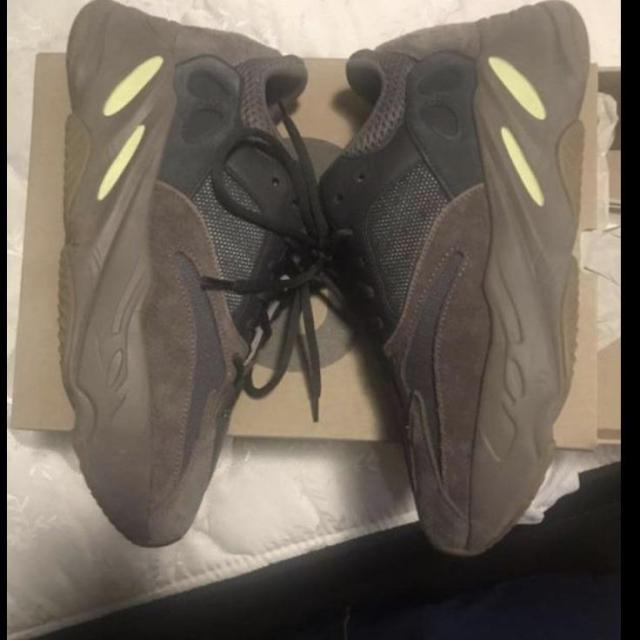shoe: (324, 0, 592, 558), (57, 0, 310, 551)
